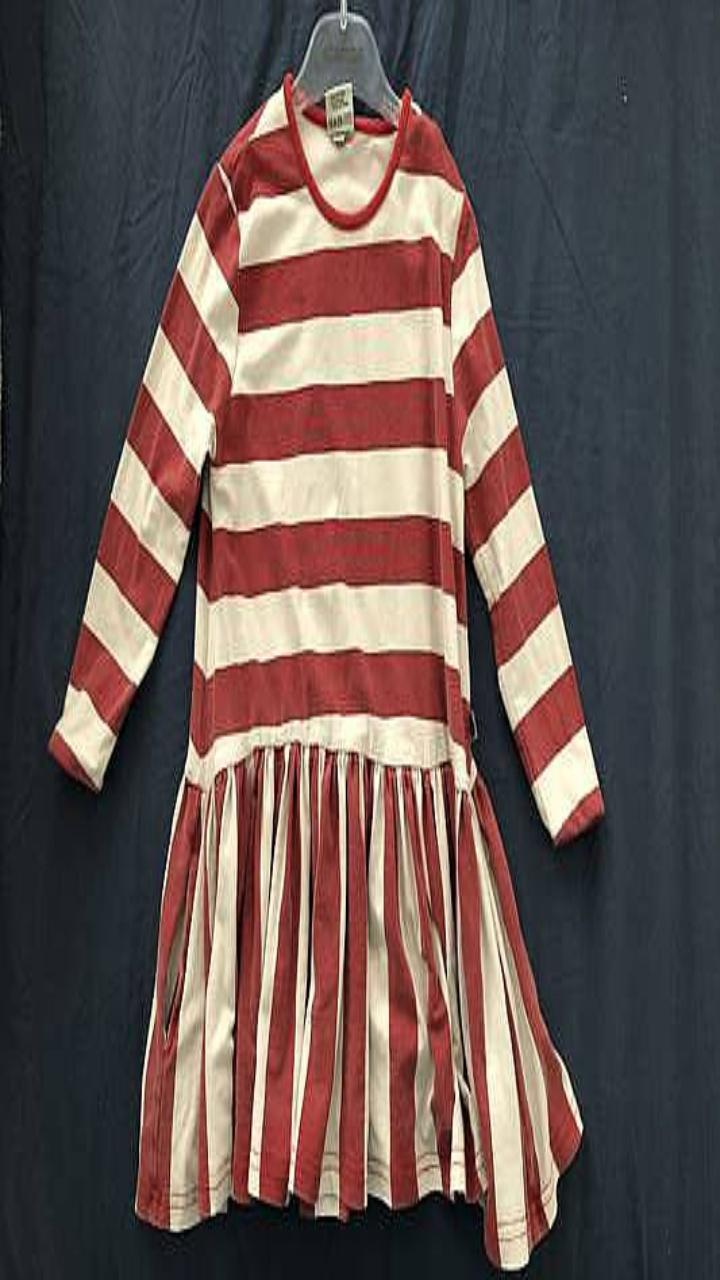T-Shirt: (48, 71, 603, 1268)
